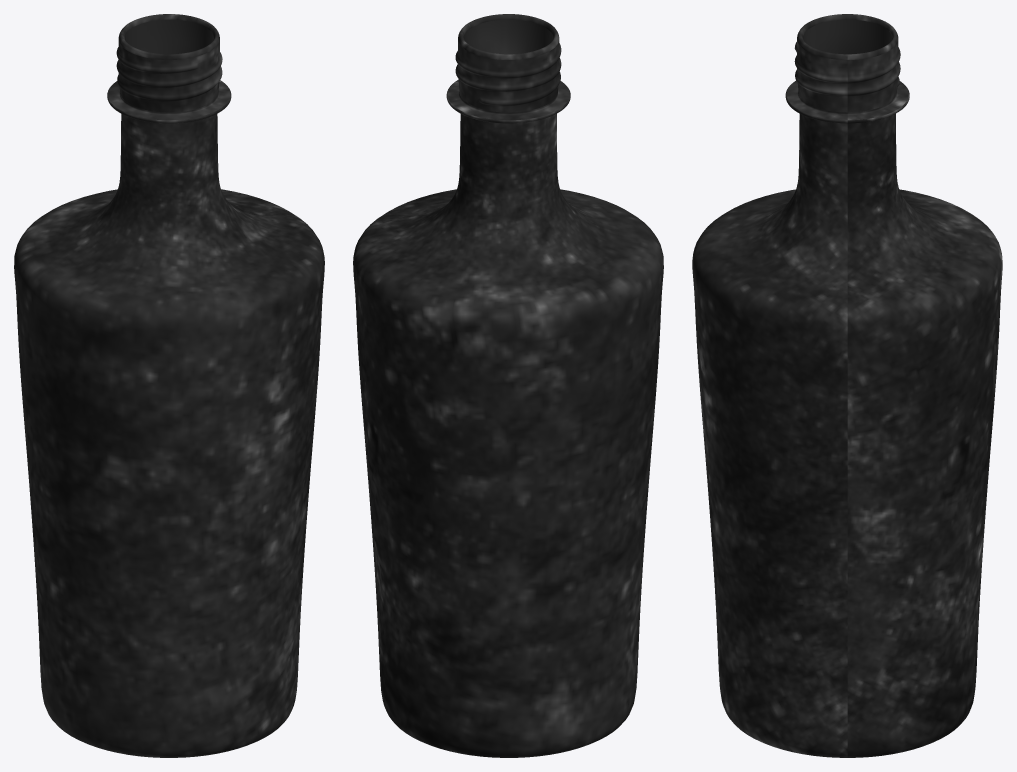
The model's file is SM_Vintage_Bar_Bottle_06.fbx.
The picture shows the model from 3 angles, left to right: view 1: azimuth 30°, elevation 25°; view 2: azimuth 150°, elevation 25°; view 3: azimuth 270°, elevation 25°; orthographic projection.
Visible parts, largest first — view 1: SM_Vintage_Bar_Bottle_06; view 2: SM_Vintage_Bar_Bottle_06; view 3: SM_Vintage_Bar_Bottle_06.
Boxes of the visible parts, x1,y1,x2,y2 form: SM_Vintage_Bar_Bottle_06: (14, 14, 324, 757); SM_Vintage_Bar_Bottle_06: (353, 14, 663, 757); SM_Vintage_Bar_Bottle_06: (692, 14, 1002, 757).
Size of the model in its own units: 15.88 by 15.86 by 38.03.
Materials: 1 (1 with a texture image).
